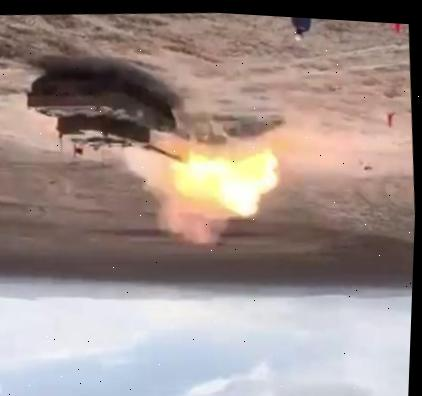tank: (20, 60, 192, 177)
